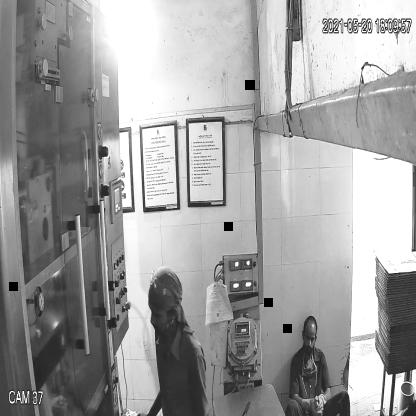no_goggles: (146, 300, 174, 328), (300, 330, 317, 348)
